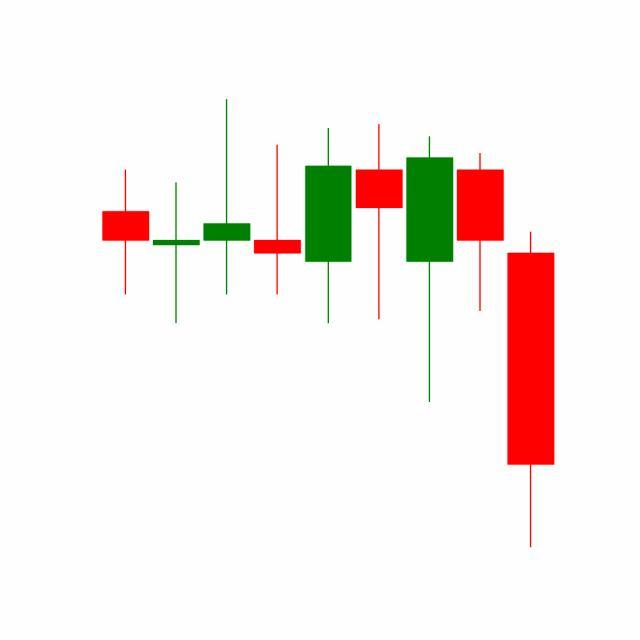Hikkake Pattern: (302, 120, 555, 549)
